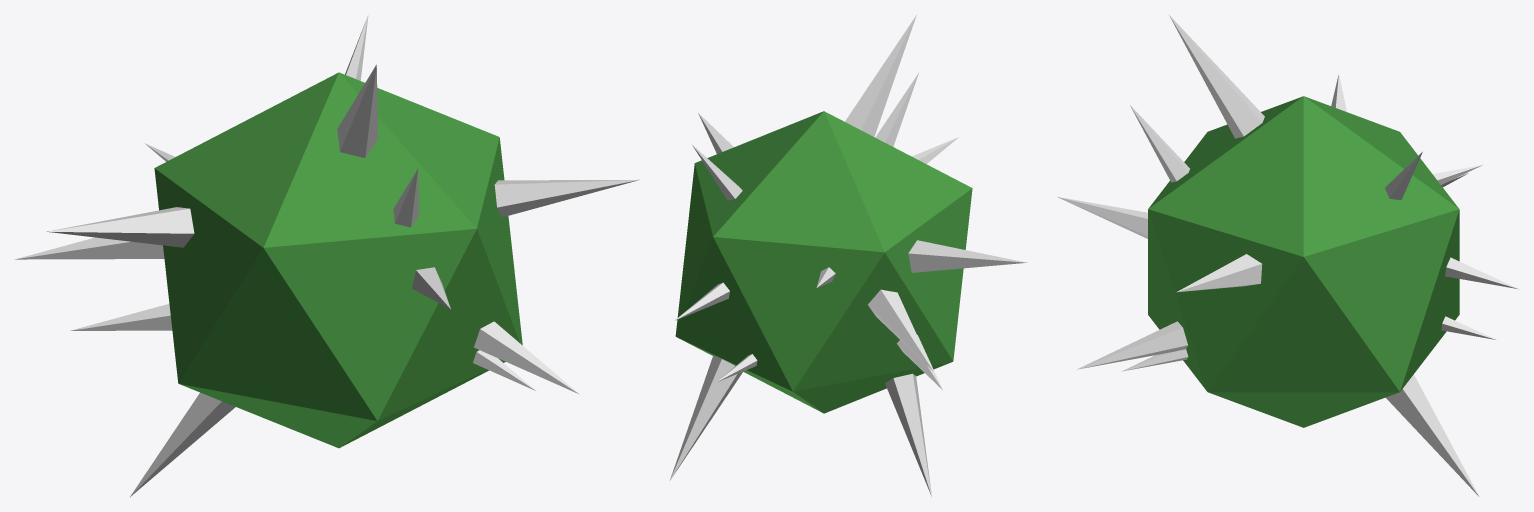
The model's file is CacusBall.fbx.
The picture shows the model from 3 angles, left to right: view 1: azimuth 30°, elevation 25°; view 2: azimuth 150°, elevation 25°; view 3: azimuth 270°, elevation 25°; orthographic projection. The views are drawn at different scales.
Visible parts, largest first — view 1: CacusBall, CacusBall|Spike|Dupli|10, CacusBall|Spike|Dupli|8, CacusBall|Spike|Dupli|, CacusBall|Spike|Dupli|13, CacusBall|Spike|Dupli|4, CacusBall|Spike|Dupli|2, CacusBall|Spike|Dupli|5, CacusBall|Spike|Dupli|12, CacusBall|Spike|Dupli|9, CacusBall|Spike|Dupli|3; view 2: CacusBall, CacusBall|Spike|Dupli|1, CacusBall|Spike|Dupli|13, CacusBall|Spike|Dupli|, CacusBall|Spike|Dupli|10, CacusBall|Spike|Dupli|4, CacusBall|Spike|Dupli|12, CacusBall|Spike|Dupli|14, CacusBall|Spike|Dupli|7, CacusBall|Spike|Dupli|5, CacusBall|Spike|Dupli|8; view 3: CacusBall, CacusBall|Spike|Dupli|13, CacusBall|Spike|Dupli|1, CacusBall|Spike|Dupli|2, CacusBall|Spike|Dupli|8, CacusBall|Spike|Dupli|9, CacusBall|Spike|Dupli|12, CacusBall|Spike|Dupli|7, CacusBall|Spike|Dupli|14, CacusBall|Spike|Dupli|3.
Boxes of the visible parts, x1,y1,x2,y2 form: CacusBall: [154, 72, 522, 448]; CacusBall|Spike|Dupli|10: [47, 207, 194, 247]; CacusBall|Spike|Dupli|8: [494, 179, 640, 217]; CacusBall|Spike|Dupli|: [130, 392, 235, 496]; CacusBall|Spike|Dupli|13: [337, 64, 378, 157]; CacusBall|Spike|Dupli|4: [14, 237, 164, 259]; CacusBall|Spike|Dupli|2: [474, 321, 579, 394]; CacusBall|Spike|Dupli|5: [70, 304, 172, 330]; CacusBall|Spike|Dupli|12: [393, 168, 418, 227]; CacusBall|Spike|Dupli|9: [412, 267, 450, 309]; CacusBall|Spike|Dupli|3: [473, 350, 536, 391]; CacusBall: [675, 111, 972, 413]; CacusBall|Spike|Dupli|1: [670, 355, 743, 480]; CacusBall|Spike|Dupli|13: [845, 14, 916, 136]; CacusBall|Spike|Dupli|: [885, 373, 931, 496]; CacusBall|Spike|Dupli|10: [908, 240, 1026, 272]; CacusBall|Spike|Dupli|4: [868, 289, 933, 371]; CacusBall|Spike|Dupli|12: [875, 72, 919, 146]; CacusBall|Spike|Dupli|14: [692, 145, 742, 200]; CacusBall|Spike|Dupli|7: [674, 282, 729, 320]; CacusBall|Spike|Dupli|5: [897, 335, 942, 389]; CacusBall|Spike|Dupli|8: [698, 113, 733, 153]; CacusBall: [1148, 96, 1459, 427]; CacusBall|Spike|Dupli|13: [1169, 15, 1264, 138]; CacusBall|Spike|Dupli|1: [1385, 374, 1479, 496]; CacusBall|Spike|Dupli|2: [1077, 321, 1187, 369]; CacusBall|Spike|Dupli|8: [1176, 254, 1262, 292]; CacusBall|Spike|Dupli|9: [1057, 197, 1147, 238]; CacusBall|Spike|Dupli|12: [1130, 105, 1189, 182]; CacusBall|Spike|Dupli|7: [1445, 257, 1518, 289]; CacusBall|Spike|Dupli|14: [1385, 151, 1422, 200]; CacusBall|Spike|Dupli|3: [1121, 349, 1188, 371].
Bounding box in the file's own units: 82.62 × 76.29 × 74.89.
